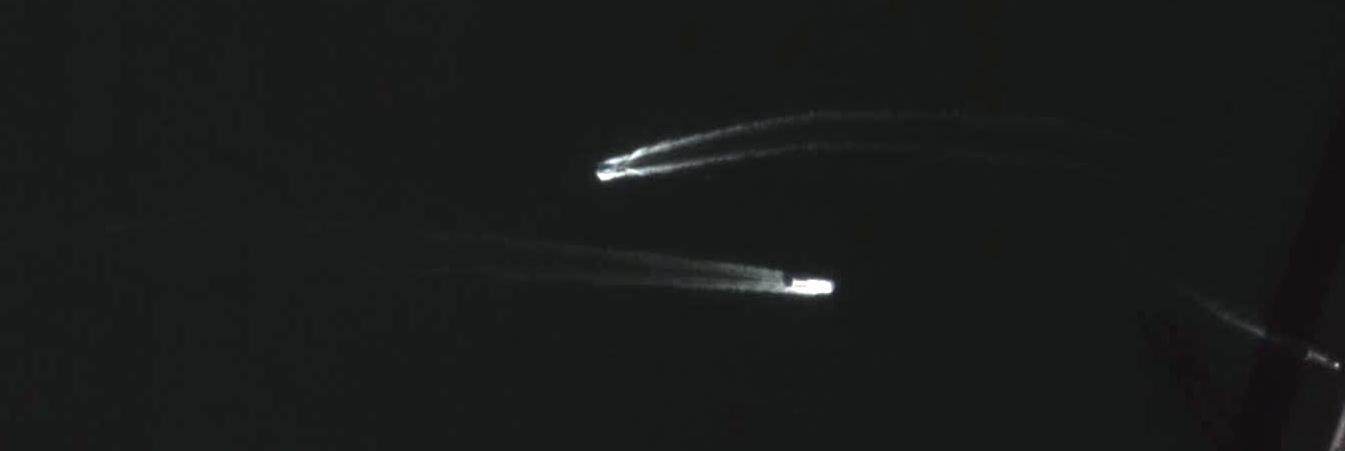person: (791, 278, 835, 295), (1316, 353, 1340, 370), (596, 164, 617, 172)
